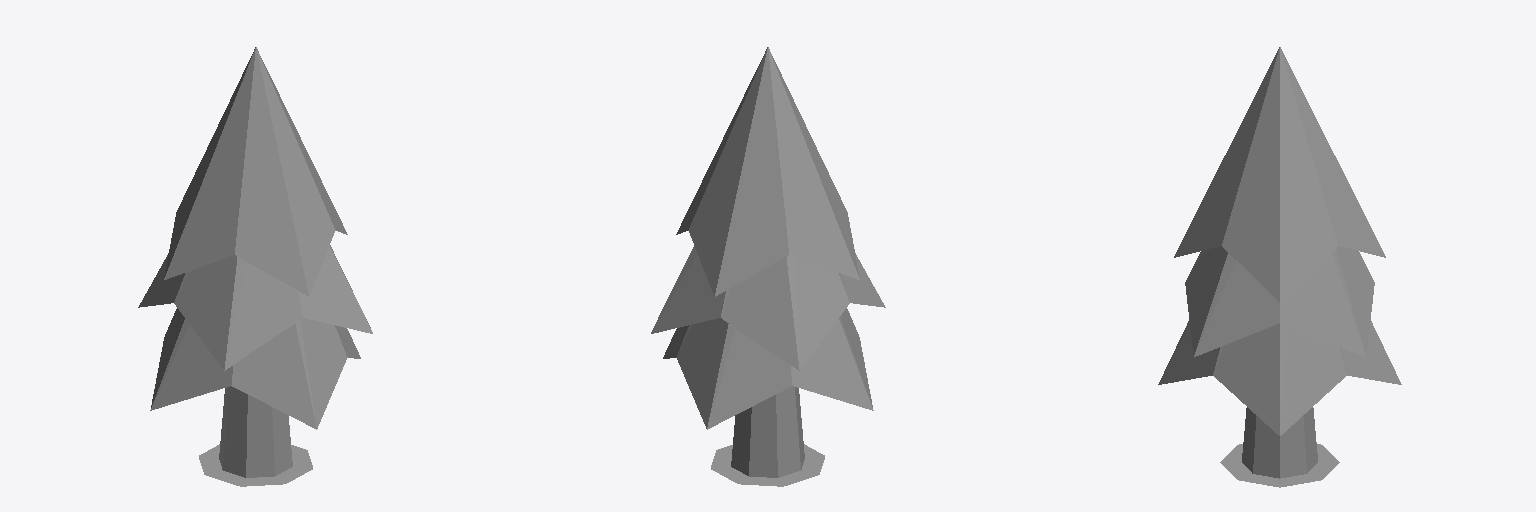
Rendered from Tree.obj.
The picture shows the model from 3 angles: view 1: azimuth 30°, elevation 25°; view 2: azimuth 150°, elevation 25°; view 3: azimuth 270°, elevation 25°; orthographic projection.
Visible parts, largest first — view 1: Cylinder; view 2: Cylinder; view 3: Cylinder.
Boxes of the visible parts, box(x1,y1,x2,y2) form: Cylinder: box(138, 47, 372, 486); Cylinder: box(651, 47, 885, 486); Cylinder: box(1158, 47, 1401, 487).
Bounding box in the file's own units: 3.83 × 7.26 × 3.83.